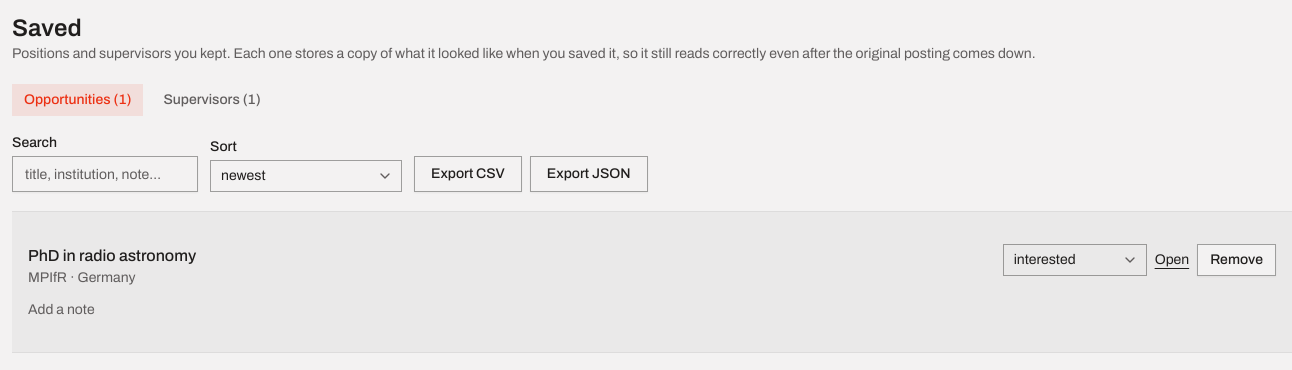
Test: Saved view › switches between the tabs
expect the heading "PhD in radio astronomy" is shown: met, box left=28, top=244, right=196, bottom=268
Click the tab "Supervisors (1)".
click(212, 100)  # box left=151, top=84, right=273, bottom=116
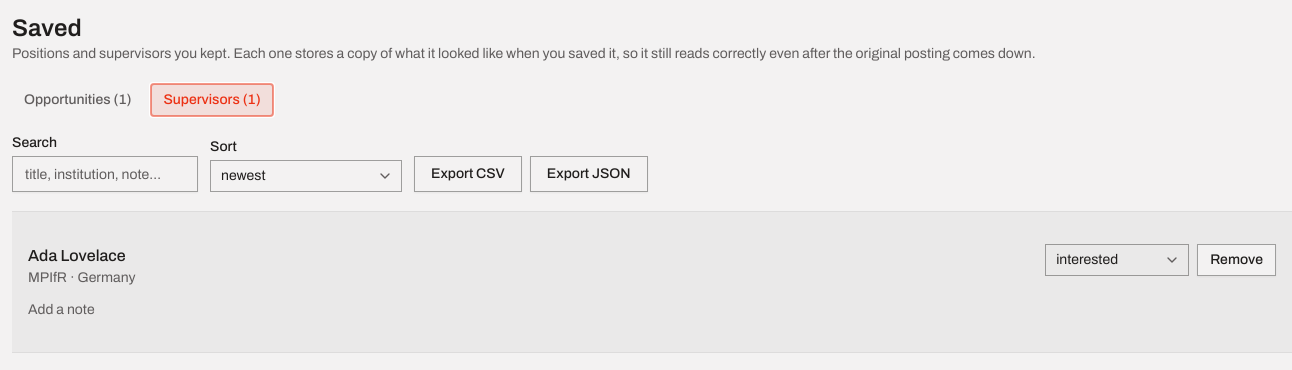
expect the heading "Ada Lovelace" is shown: met, box left=28, top=244, right=126, bottom=268
expect the heading "PhD in radio astronomy" is gone: met
